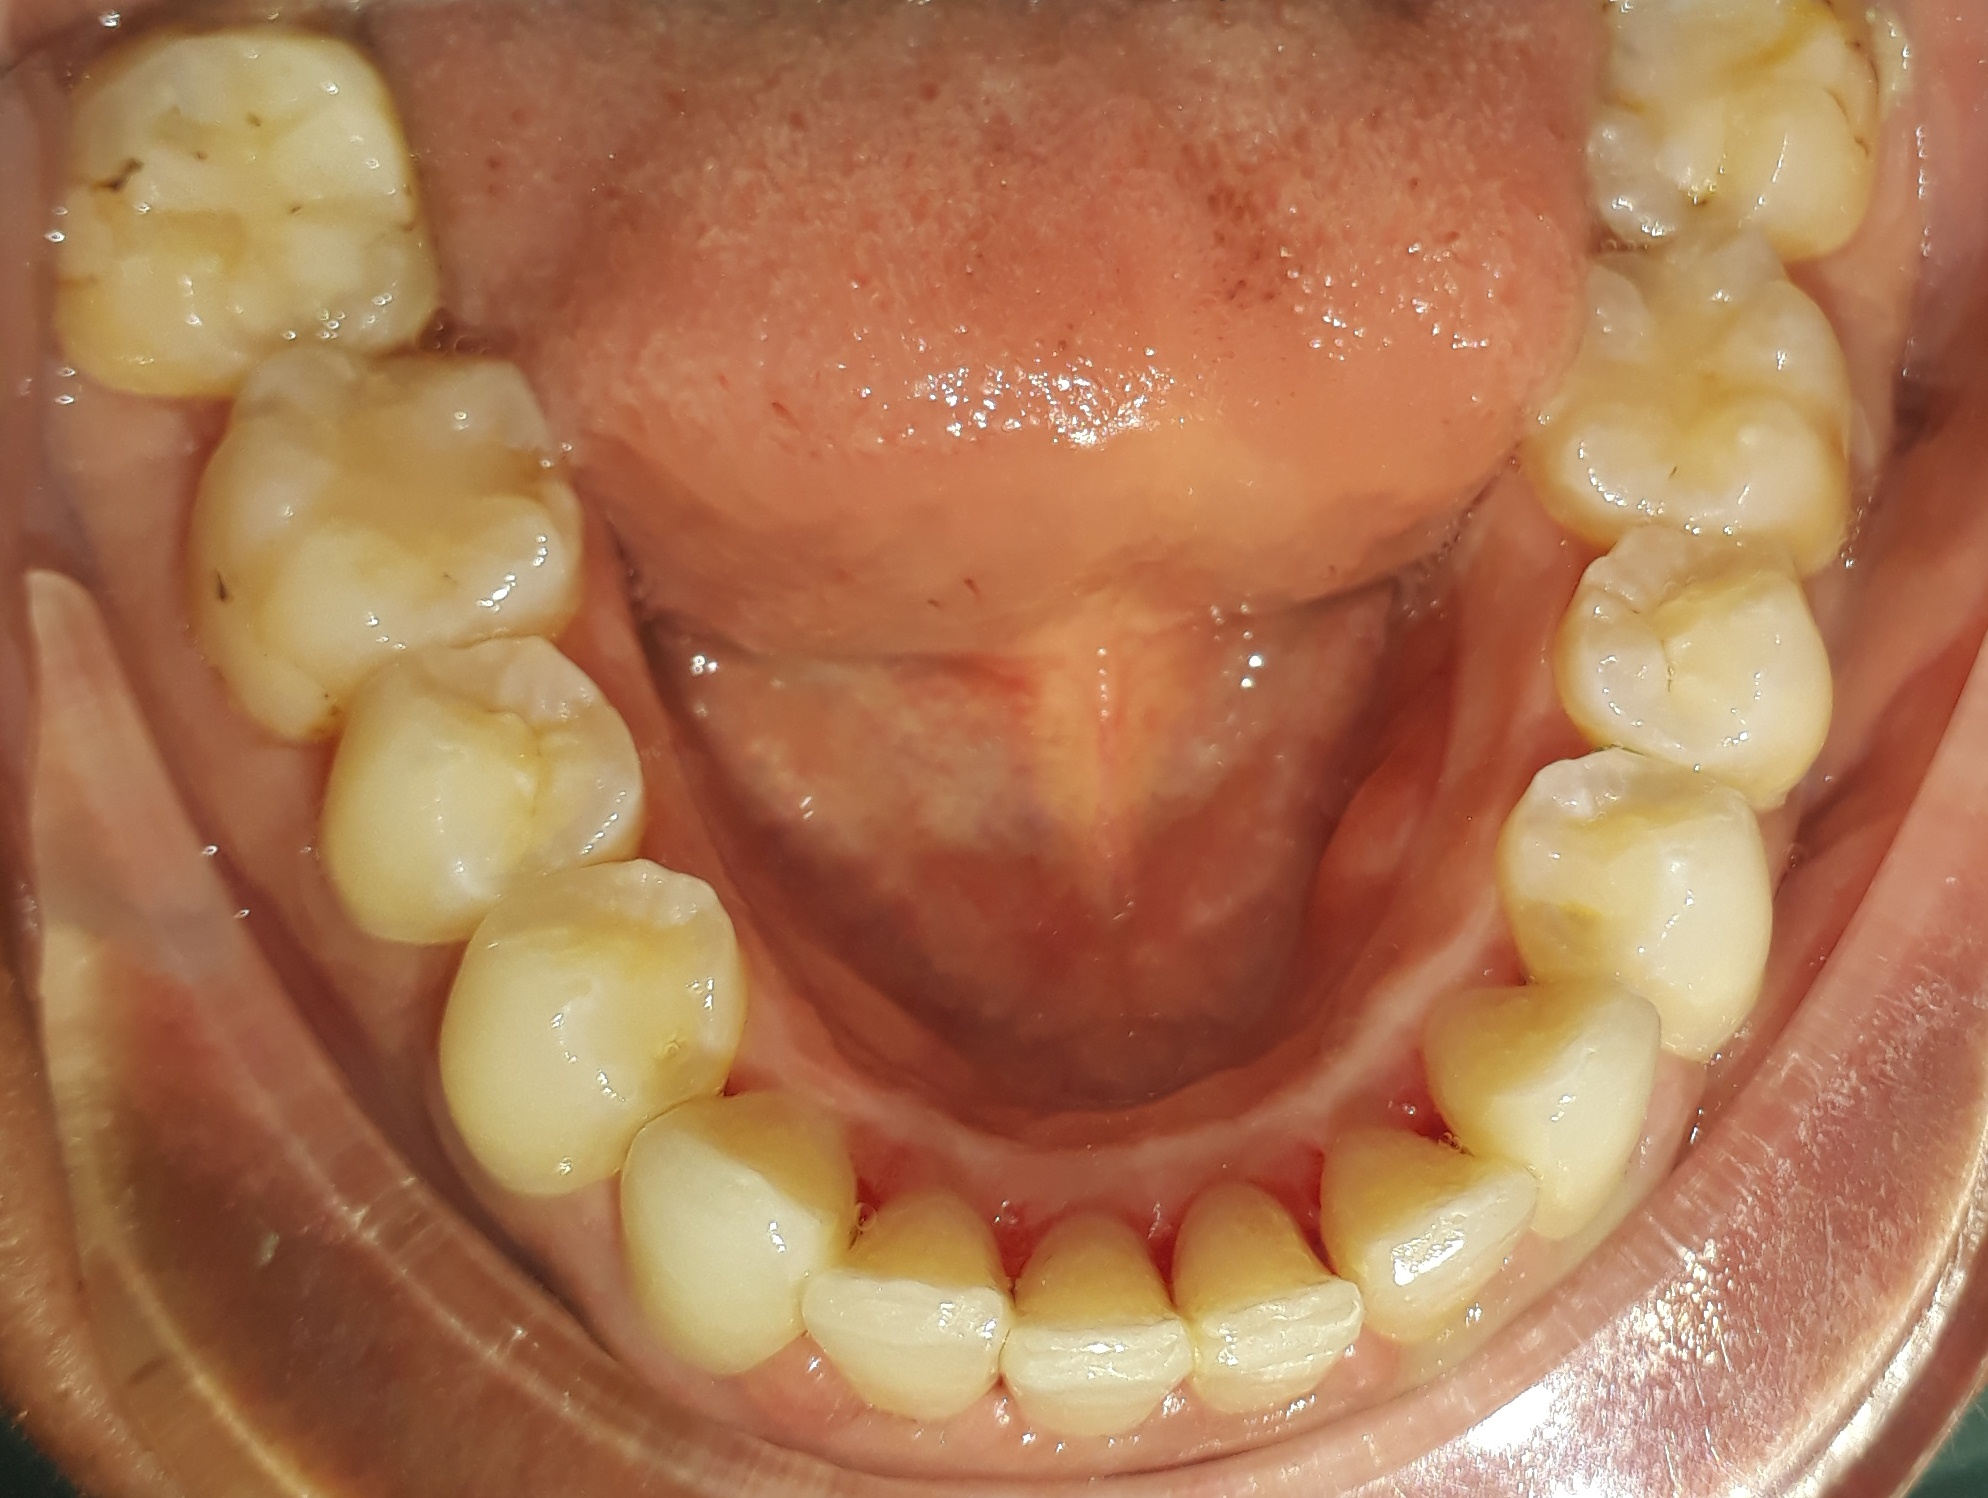1st Molar: (181, 360, 584, 727), (1549, 247, 1864, 555)
1st Premolar: (433, 854, 742, 1186), (1504, 747, 1765, 1062)
2nd Molar: (50, 20, 433, 378), (1593, 0, 1889, 247)
2nd Premolar: (321, 633, 651, 943), (1559, 527, 1826, 798)
Canine: (618, 1086, 852, 1375), (1419, 976, 1656, 1226)
Central Incisor: (1010, 1180, 1189, 1435), (1173, 1177, 1356, 1410)
Lateral Incisor: (808, 1171, 1003, 1435), (1313, 1125, 1530, 1341)
